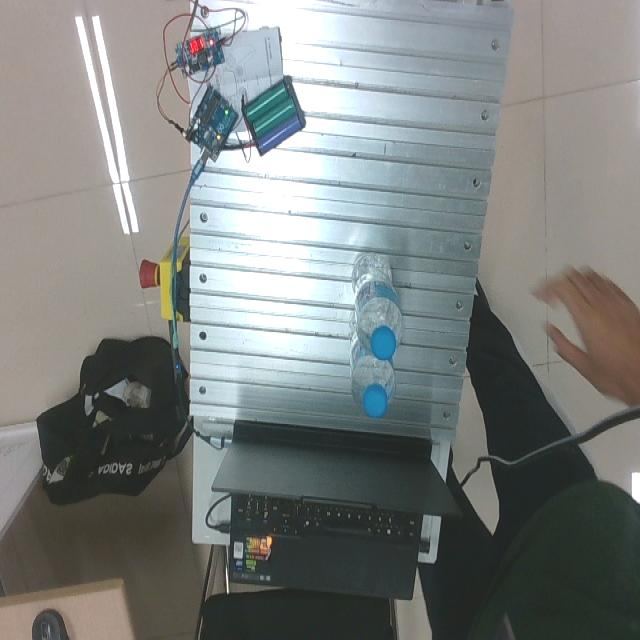lavie: (350, 252, 402, 361), (348, 316, 396, 419)
